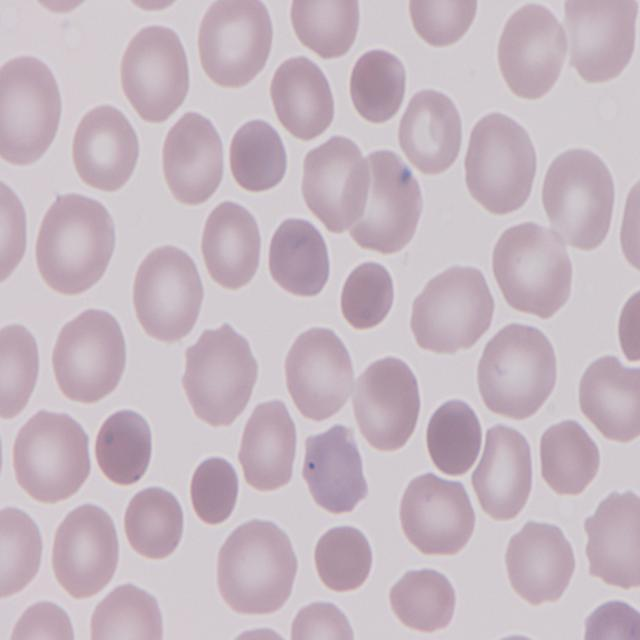RBC: (36, 192, 122, 300), (215, 516, 302, 620), (478, 320, 562, 422), (537, 144, 618, 248), (490, 222, 575, 320), (180, 326, 260, 430), (463, 110, 541, 216), (47, 308, 129, 408), (409, 262, 496, 356), (282, 328, 361, 428), (10, 414, 94, 508), (118, 23, 194, 126), (193, 0, 277, 92), (46, 502, 122, 602), (296, 132, 372, 232), (494, 2, 568, 104), (0, 54, 66, 168), (132, 246, 204, 350), (552, 384, 621, 492), (351, 356, 425, 454), (397, 471, 477, 560), (504, 518, 580, 609), (300, 422, 369, 522), (70, 102, 144, 195), (472, 420, 538, 524), (563, 0, 640, 86), (162, 111, 230, 208), (200, 198, 266, 296), (236, 398, 300, 498), (395, 90, 467, 178), (269, 54, 336, 146), (575, 356, 640, 448), (583, 489, 640, 592), (265, 214, 334, 298), (538, 415, 606, 496), (120, 485, 188, 564), (286, 0, 367, 64), (388, 566, 458, 635), (92, 580, 168, 640), (0, 322, 44, 424), (0, 506, 45, 600), (410, 0, 486, 51), (0, 172, 33, 286), (6, 600, 81, 640), (289, 601, 364, 640), (616, 171, 640, 281), (581, 598, 639, 640), (618, 283, 640, 370)
Spherocyte: (226, 114, 292, 198), (90, 407, 158, 488), (426, 396, 486, 477), (310, 519, 374, 592), (338, 258, 398, 335), (348, 51, 408, 126), (190, 456, 240, 528)
